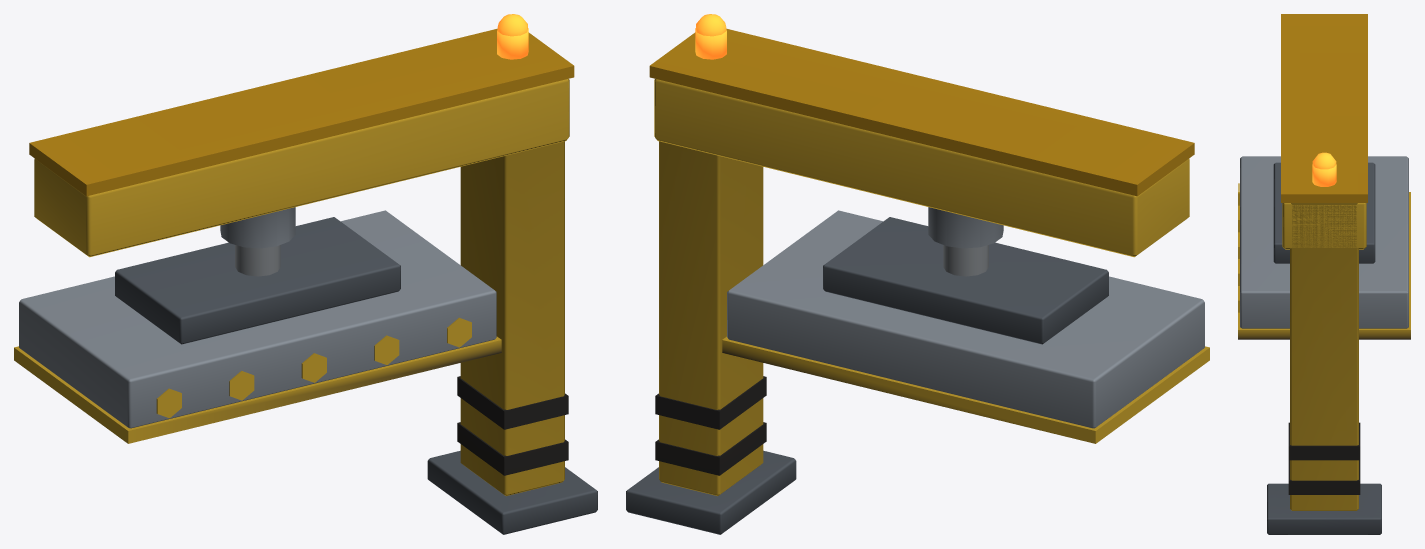
File: prop.honey_press.glb
The picture shows the model from 3 angles, left to right: view 1: azimuth 30°, elevation 25°; view 2: azimuth 150°, elevation 25°; view 3: azimuth 270°, elevation 25°; orthographic projection. The views are drawn at different scales.
Visible parts, largest first — view 1: honey_press, head, lamp; view 2: honey_press, head, lamp; view 3: honey_press, head, lamp.
Boxes of the visible parts, box(x1,y1,x2,y2) form: honey_press: box(29, 28, 597, 534); head: box(14, 210, 501, 443); lamp: box(497, 14, 528, 59); honey_press: box(626, 28, 1194, 534); head: box(722, 210, 1209, 443); lamp: box(695, 14, 726, 59); honey_press: box(1267, 14, 1381, 534); head: box(1238, 156, 1410, 339); lamp: box(1312, 152, 1336, 186).
Bounding box in the file's own units: 11.45 × 10.47 × 4.5.
